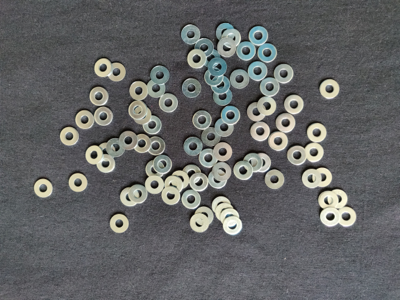circles: (221, 215, 244, 237), (212, 142, 235, 164), (200, 127, 223, 149), (263, 169, 286, 191), (185, 48, 208, 70), (203, 67, 226, 89), (248, 25, 271, 47), (256, 42, 279, 64), (267, 130, 290, 152), (274, 112, 297, 134), (306, 122, 329, 144), (303, 141, 326, 163), (67, 172, 89, 194), (128, 183, 150, 205), (162, 173, 184, 195), (181, 164, 203, 186), (189, 213, 211, 235), (219, 207, 241, 229), (215, 202, 237, 224), (211, 196, 233, 218), (211, 161, 233, 183), (182, 136, 204, 158), (242, 152, 264, 174), (145, 135, 167, 157), (127, 99, 149, 121), (58, 126, 80, 148), (74, 109, 96, 131), (128, 80, 150, 102), (149, 64, 171, 86), (207, 56, 229, 78), (200, 48, 222, 70), (194, 37, 216, 59), (214, 21, 236, 43), (273, 63, 295, 85), (256, 95, 278, 117), (82, 145, 105, 166), (94, 154, 117, 175), (95, 141, 118, 162), (117, 130, 140, 151), (130, 133, 153, 154), (145, 159, 168, 180), (187, 172, 210, 193), (180, 189, 203, 210), (207, 169, 230, 190), (219, 105, 242, 126), (250, 153, 273, 174), (93, 106, 116, 127), (105, 62, 128, 83), (157, 93, 180, 114), (181, 78, 204, 99), (209, 75, 232, 96), (219, 28, 242, 49), (235, 41, 258, 62), (249, 121, 272, 142), (312, 167, 335, 188), (317, 190, 340, 211), (327, 189, 350, 210), (336, 207, 359, 228), (32, 178, 54, 199), (106, 137, 128, 158), (142, 115, 164, 136), (152, 154, 174, 175), (145, 174, 167, 195), (120, 187, 142, 208), (109, 213, 131, 234), (161, 186, 183, 207), (168, 170, 190, 191), (193, 206, 215, 227), (199, 148, 221, 169), (191, 110, 213, 131), (214, 117, 236, 138), (233, 160, 255, 181), (131, 105, 153, 126), (88, 86, 110, 107), (92, 58, 114, 79), (145, 79, 167, 100), (181, 24, 203, 45), (212, 86, 234, 107), (216, 37, 238, 58), (228, 69, 250, 90), (247, 61, 269, 82), (259, 77, 281, 98), (246, 101, 268, 122), (283, 94, 305, 115), (319, 79, 341, 100), (287, 146, 309, 167), (301, 168, 323, 189), (320, 206, 342, 227)
